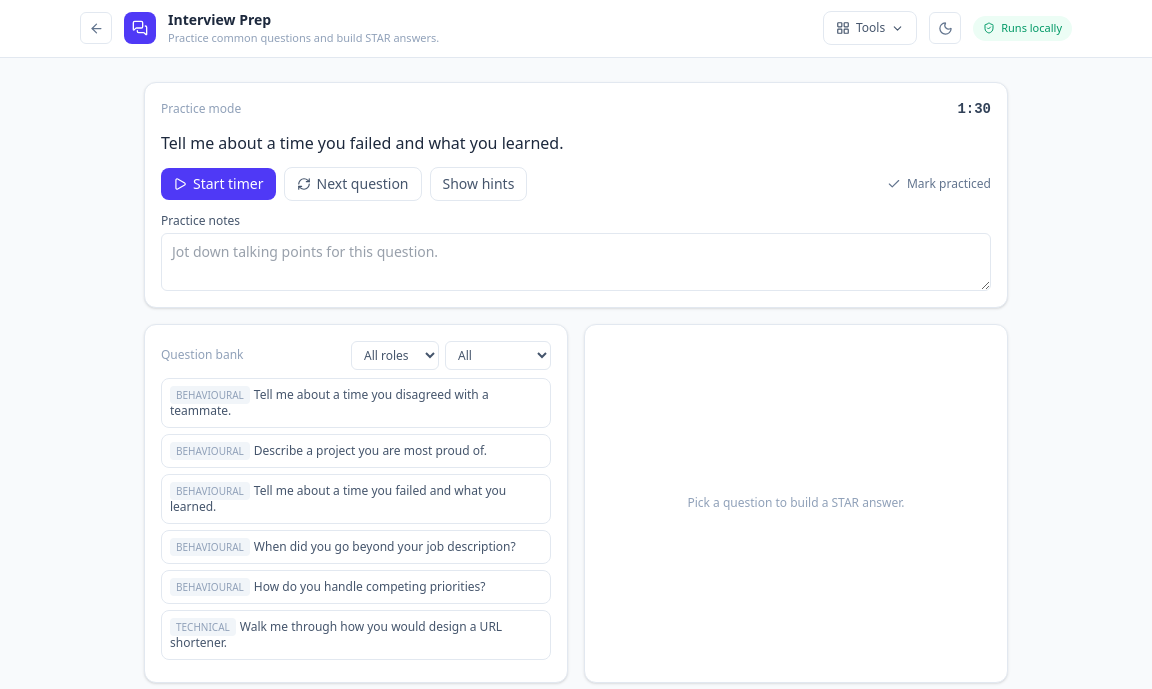
InterviewApp › builds and saves a STAR answer
Click the button "Tell me about a time you disagreed".
click(356, 402)  # box left=161, top=378, right=551, bottom=428
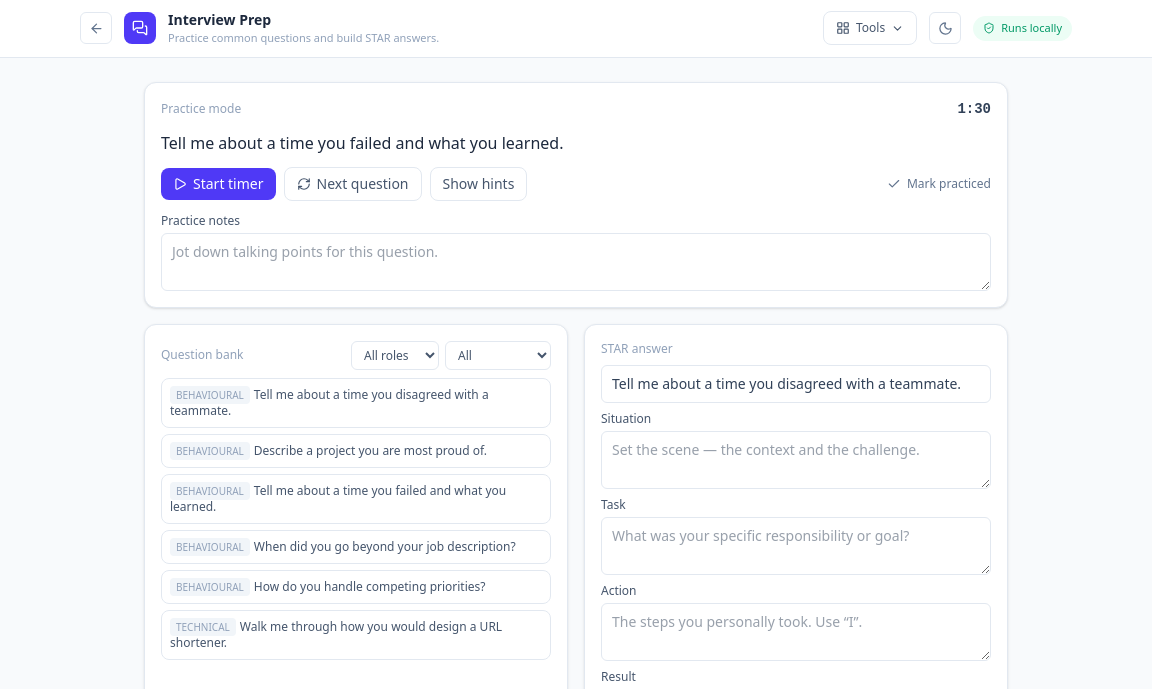
Type "At work" into the text box labelled "situation".
click(796, 460); type("At work")  # box left=601, top=430, right=991, bottom=488
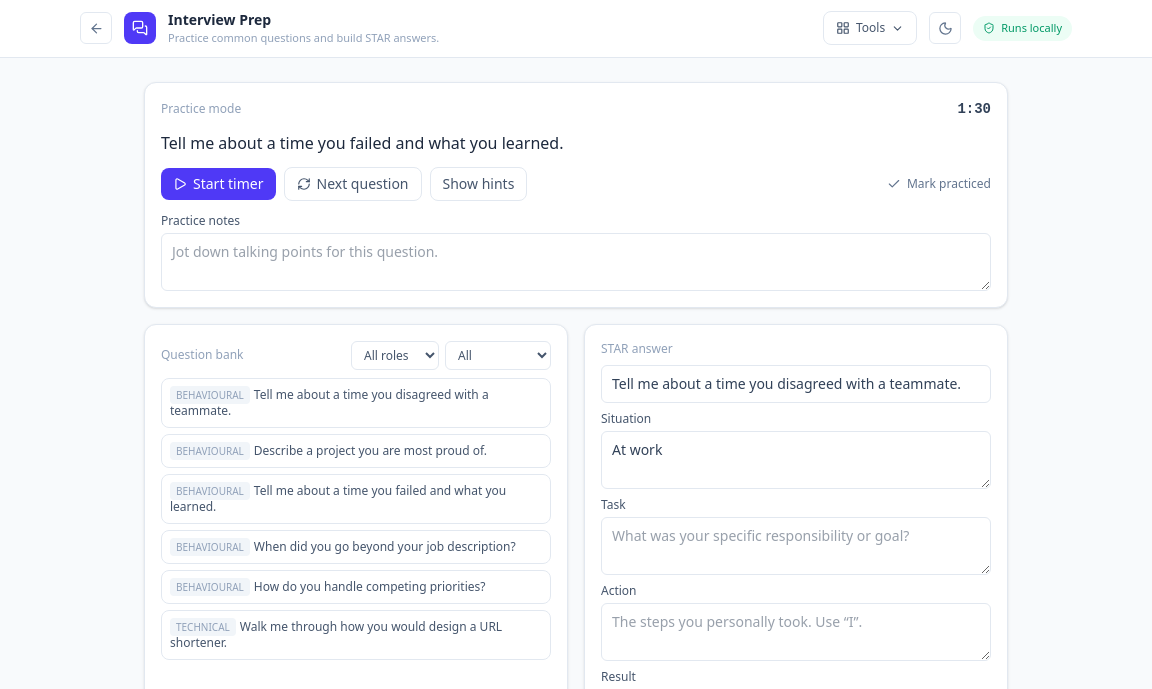
Type "I listened" into the text box labelled "action".
click(796, 632); type("I listened")  # box left=601, top=602, right=991, bottom=660
(page scrolled)
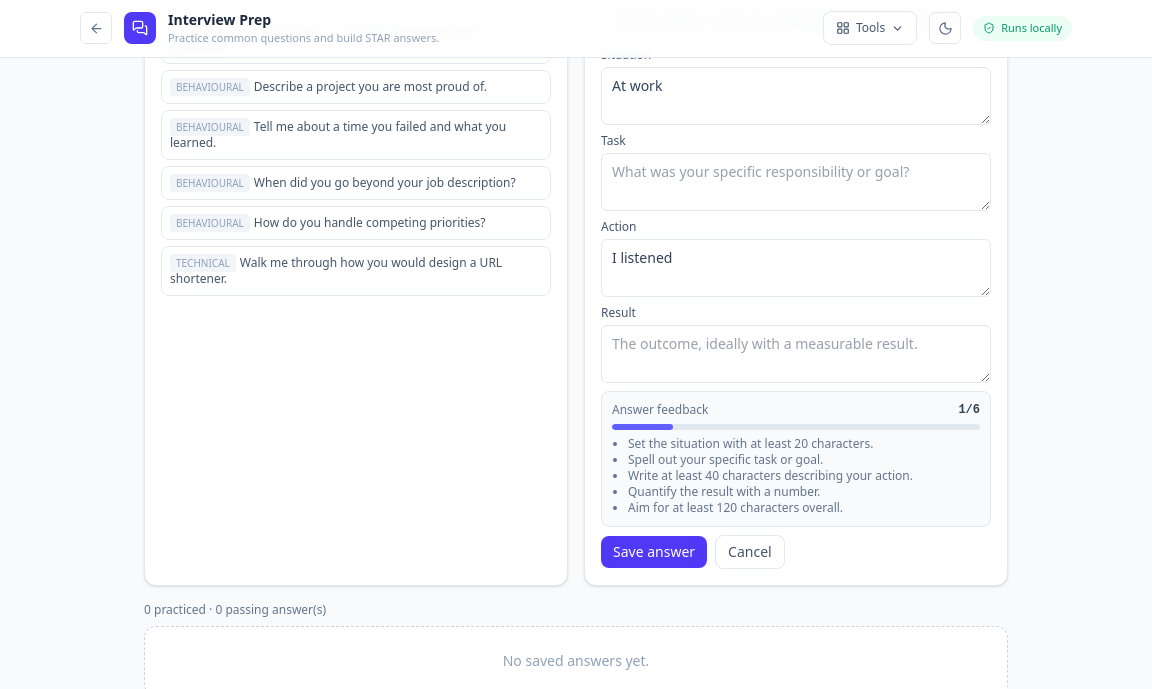
Click the button "Save answer".
click(654, 552)  # box left=601, top=536, right=707, bottom=568
(page scrolled)
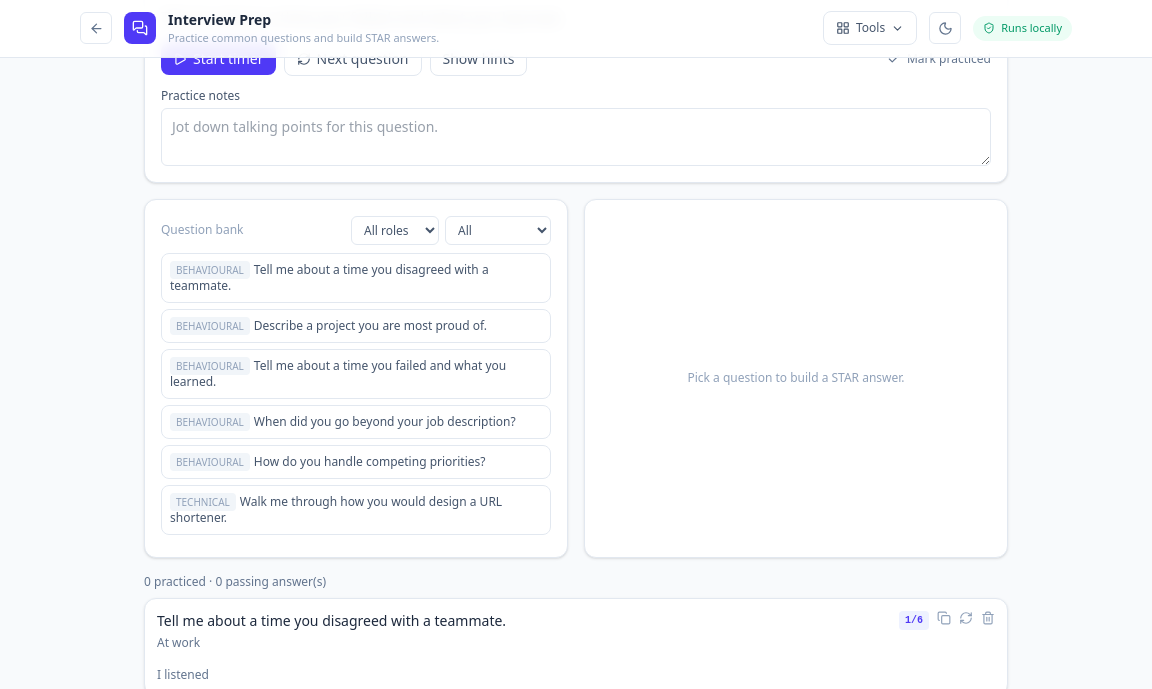
Expected: the button named "Delete answer" is shown, left=981, top=610, right=995, bottom=624
